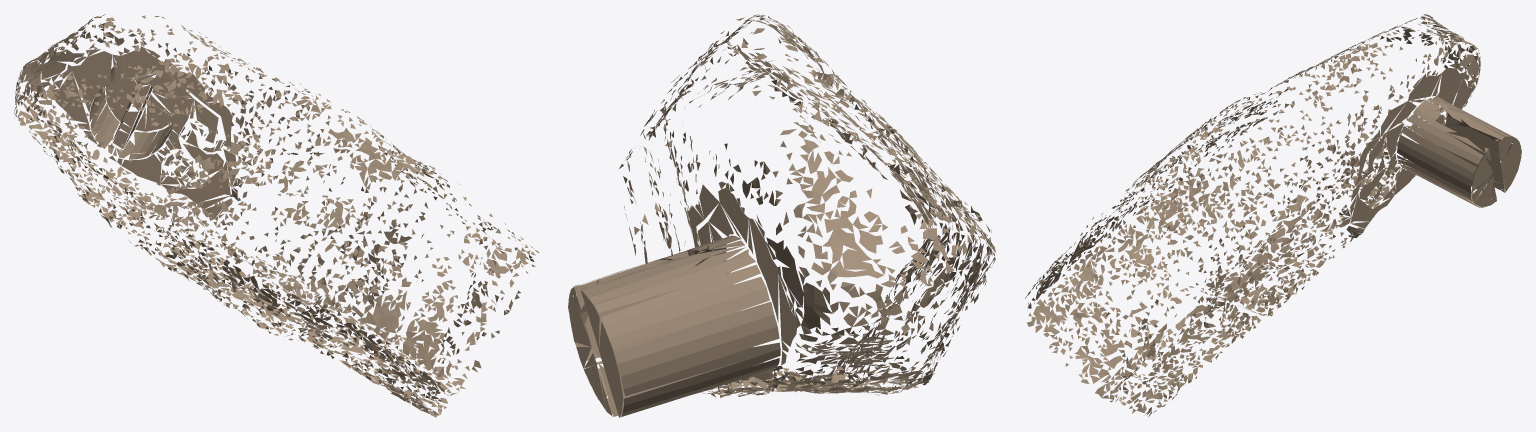
The model's file is rocky_mano_derecha.obj.
3 views of the same model, side by side, from view 1: azimuth 30°, elevation 25°; view 2: azimuth 150°, elevation 25°; view 3: azimuth 270°, elevation 25° (orthographic). The views are drawn at different scales.
Size of the model in its own units: 0.223 by 0.1955 by 0.2883.
Materials: 1 (1 with a texture image).
